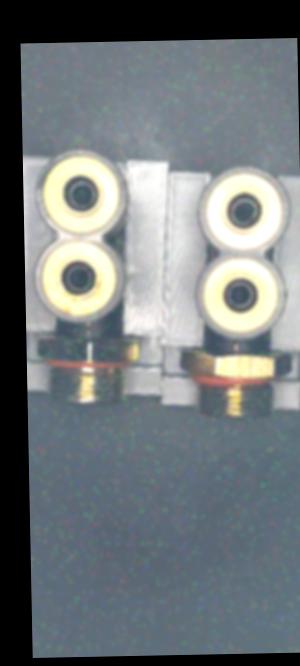craze: (83, 319, 94, 340), (229, 338, 241, 356)
off-centered: (226, 195, 261, 225)
